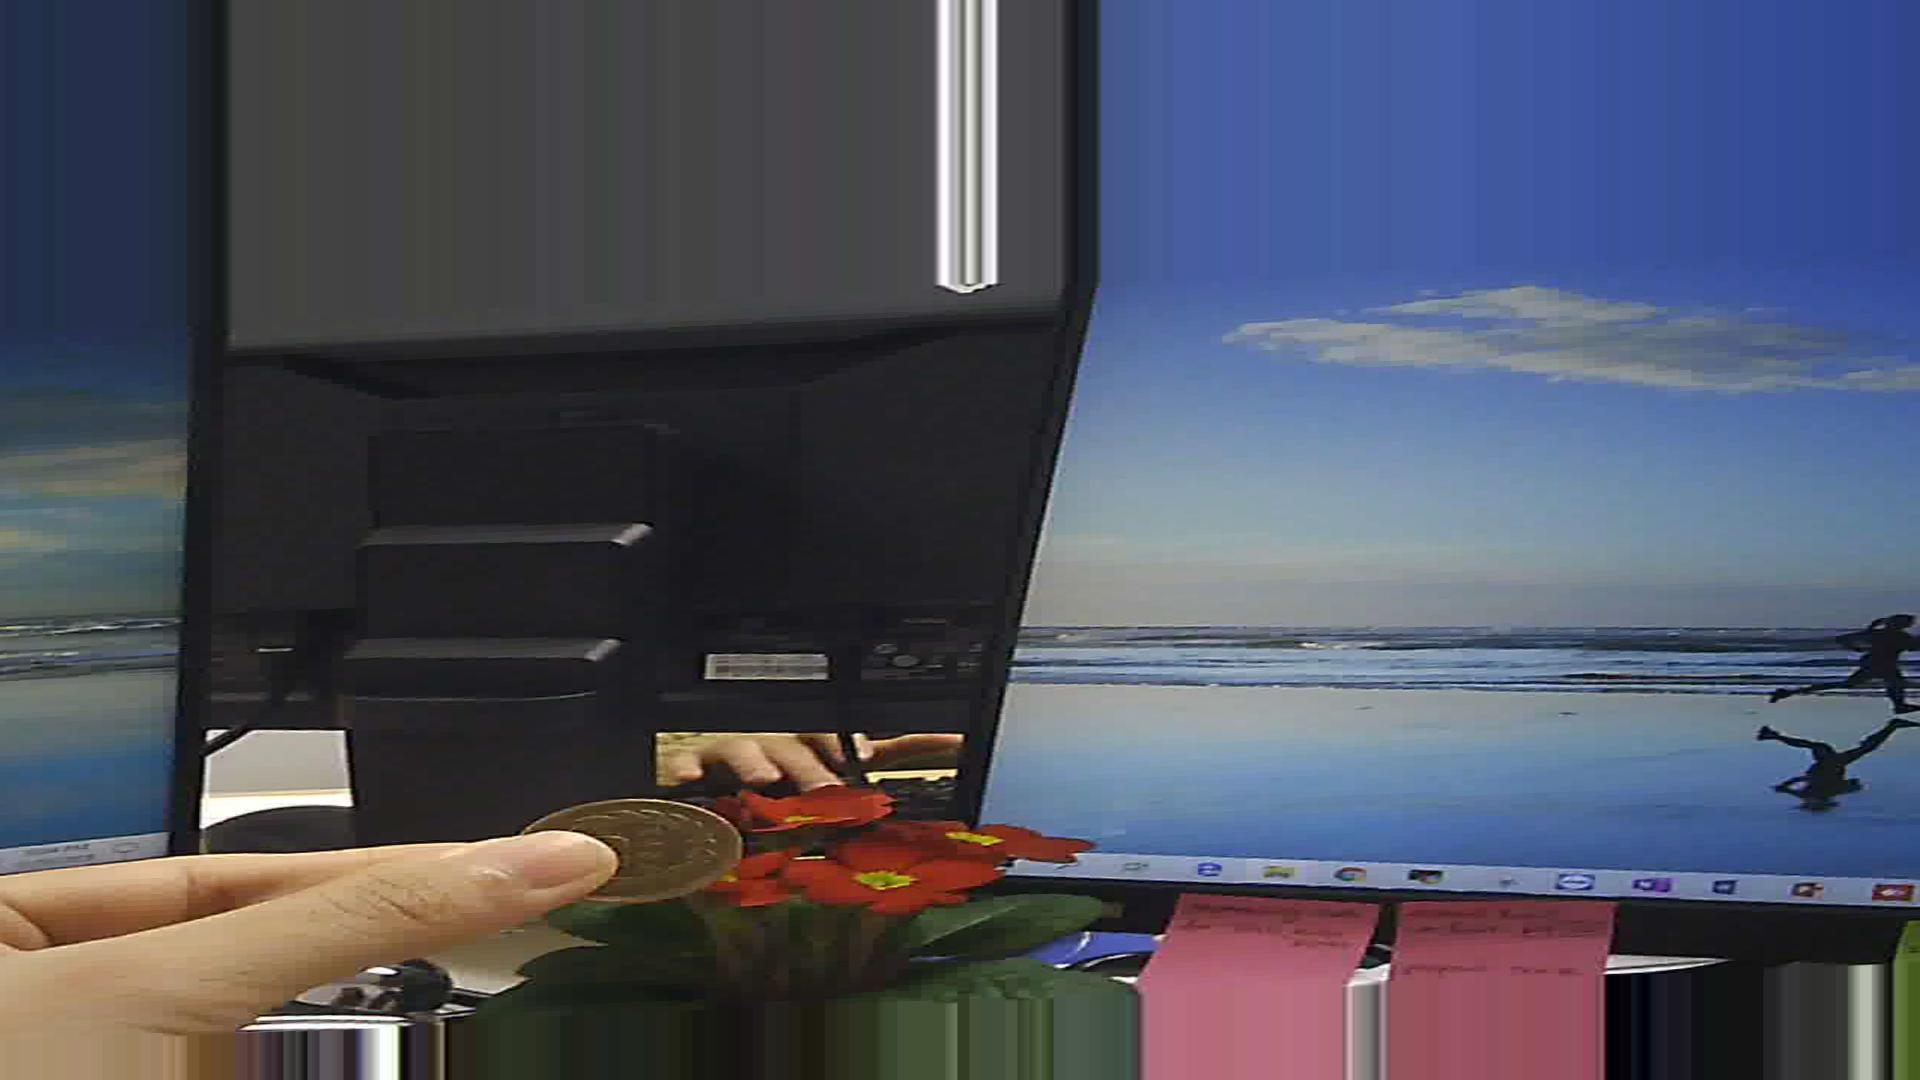10 Yen: (498, 793, 742, 903)
